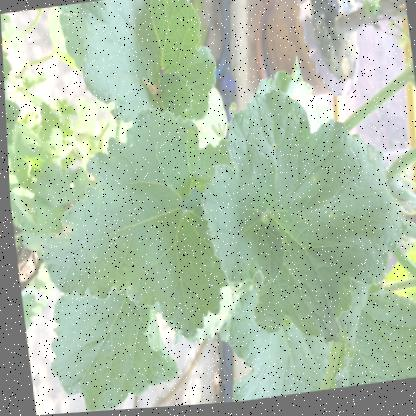Normal: (191, 80, 412, 332), (28, 106, 224, 341), (57, 0, 221, 156)
